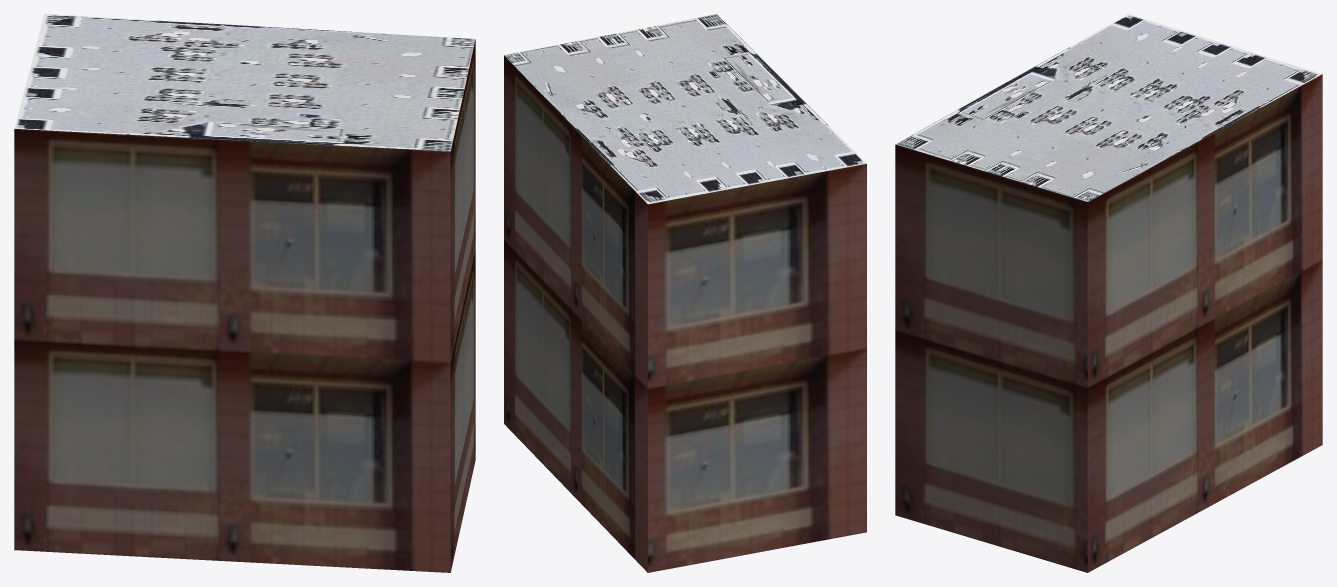
The model's file is ResTex__3927.fbx.
The picture shows the model from 3 angles, left to right: view 1: azimuth 30°, elevation 25°; view 2: azimuth 150°, elevation 25°; view 3: azimuth 270°, elevation 25°; orthographic projection. The views are drawn at different scales.
Visible parts, largest first — view 1: CityEngineMaterial_13_m, CityEngineMaterial_8_m; view 2: CityEngineMaterial_13_m, CityEngineMaterial_8_m; view 3: CityEngineMaterial_13_m, CityEngineMaterial_8_m.
Boxes of the visible parts, <box> form: CityEngineMaterial_13_m: <box>14,40,475,572</box>; CityEngineMaterial_8_m: <box>14,14,475,151</box>; CityEngineMaterial_13_m: <box>504,55,866,572</box>; CityEngineMaterial_8_m: <box>504,14,866,204</box>; CityEngineMaterial_13_m: <box>895,74,1322,572</box>; CityEngineMaterial_8_m: <box>895,14,1321,201</box>.
Bounding box in the file's own units: 6.53 × 6 × 6.26.
2 materials, 2 textured.
